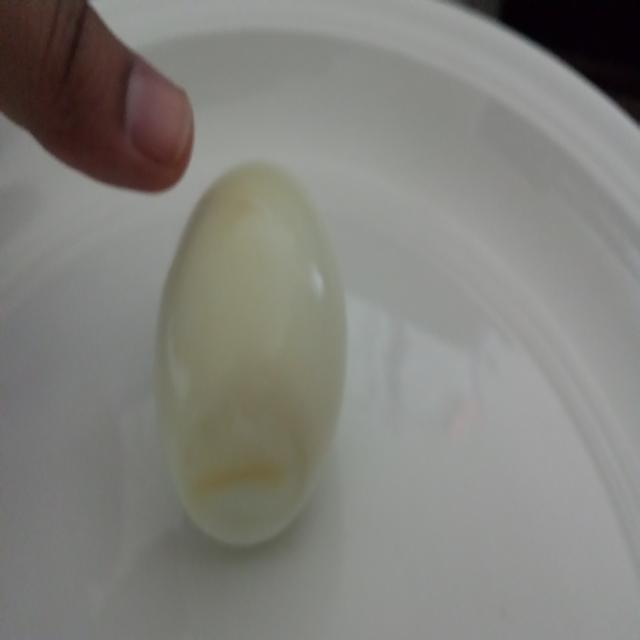egg: (148, 146, 352, 556)
